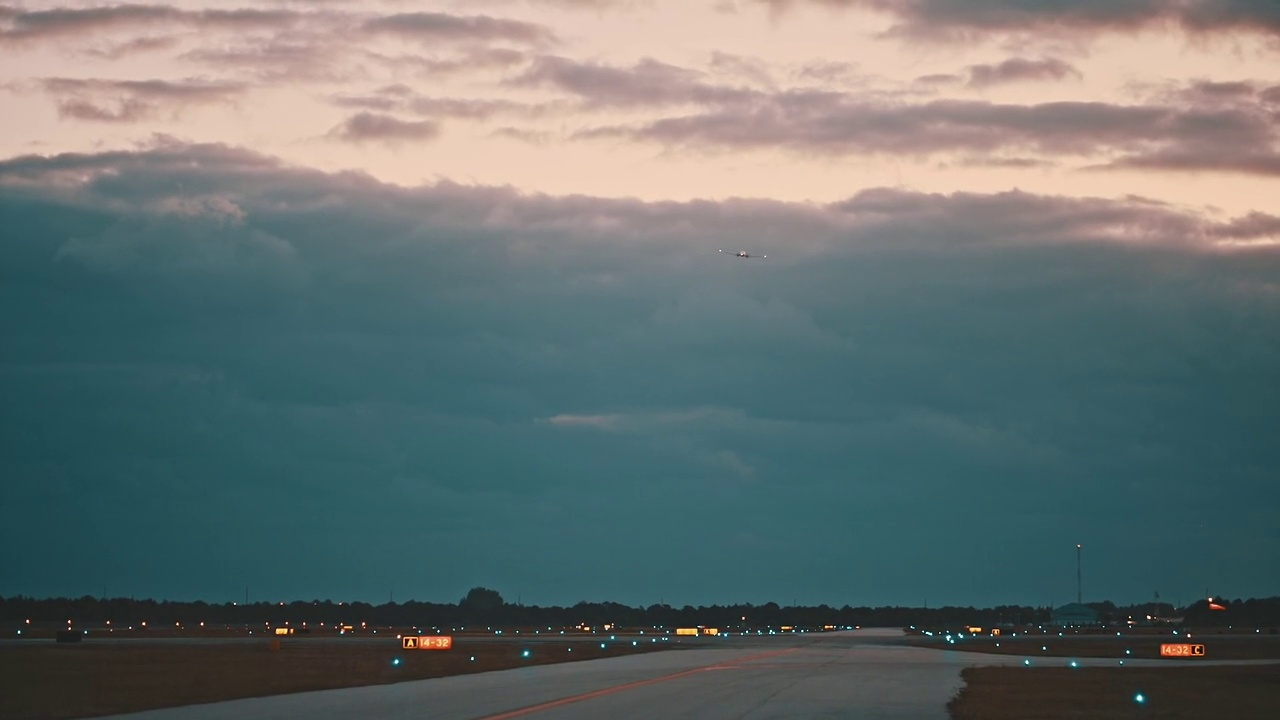plane: (717, 248, 767, 257)
